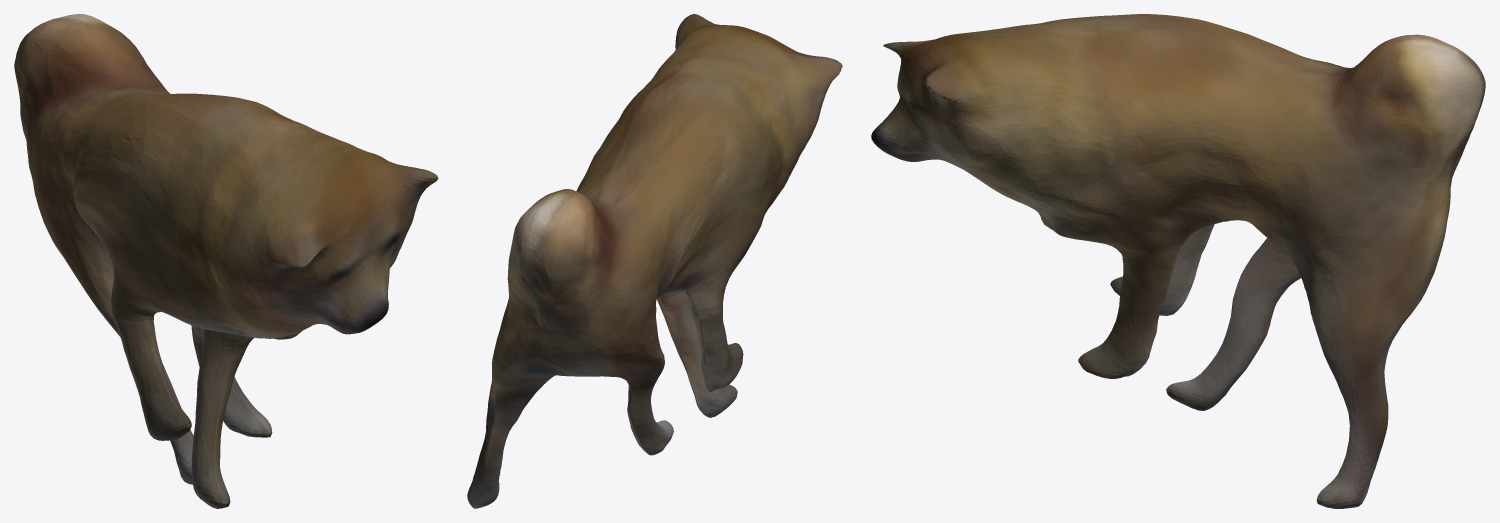
The model's file is shiba-haru-1002-mesh-00007.obj.
The picture shows the model from 3 angles, left to right: view 1: azimuth 30°, elevation 25°; view 2: azimuth 150°, elevation 25°; view 3: azimuth 270°, elevation 25°; orthographic projection. The views are drawn at different scales.
Size of the model in its own units: 0.0395 by 0.0739 by 0.0971.
